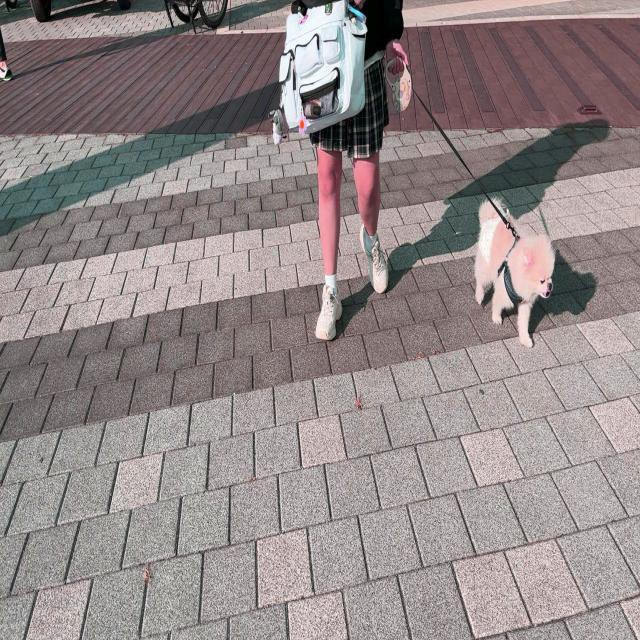Leashed_Dog: (365, 26, 556, 350)
